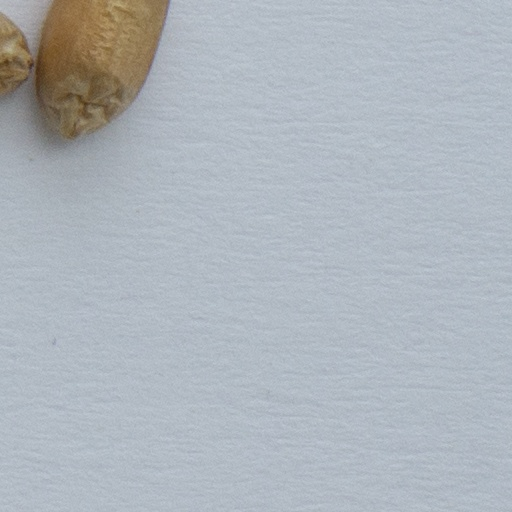Wheat-grain-poly: (34, 0, 171, 143), (0, 12, 34, 100)
